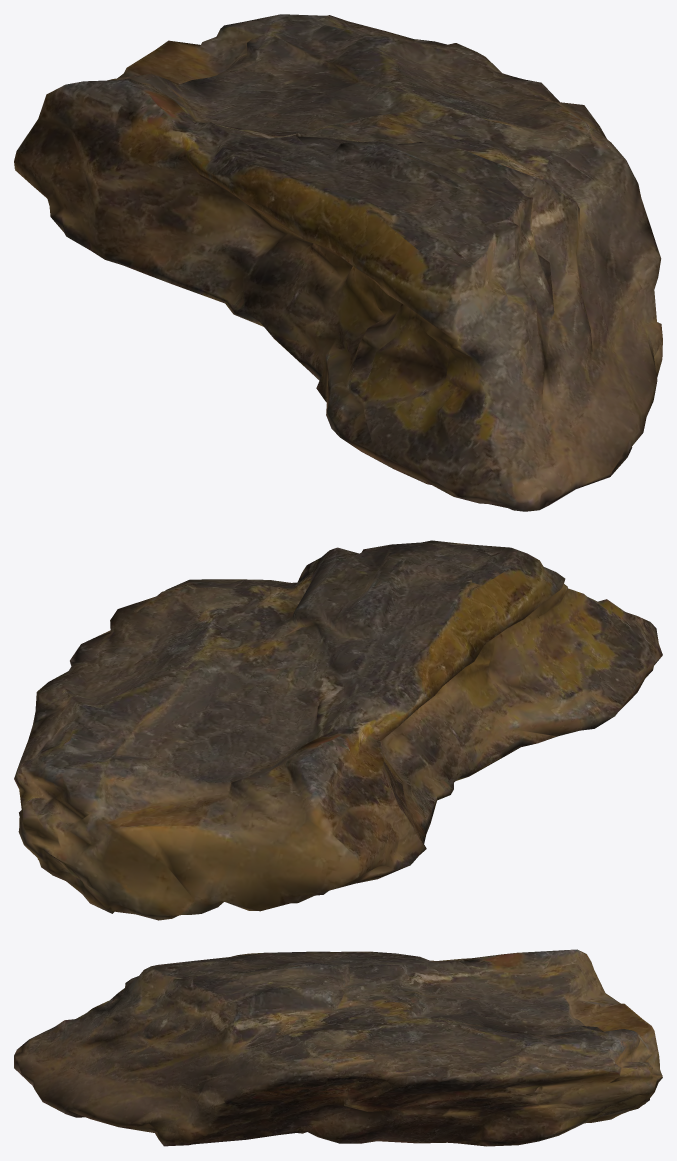
Rendered from rock09.glb.
The picture shows the model from 3 angles, top to bottom: view 1: azimuth 30°, elevation 25°; view 2: azimuth 150°, elevation 25°; view 3: azimuth 270°, elevation 25°; orthographic projection. The views are drawn at different scales.
Visible parts, largest first — view 1: rock_09_LOD0; view 2: rock_09_LOD0; view 3: rock_09_LOD0.
Part boxes in pixels (left/top/right/bottom): rock_09_LOD0: left=14, top=14, right=662, bottom=511; rock_09_LOD0: left=14, top=540, right=662, bottom=920; rock_09_LOD0: left=14, top=949, right=662, bottom=1146.
Size of the model in its own units: 0.0739 by 0.0326 by 0.1446.
1 material, 1 textured.
